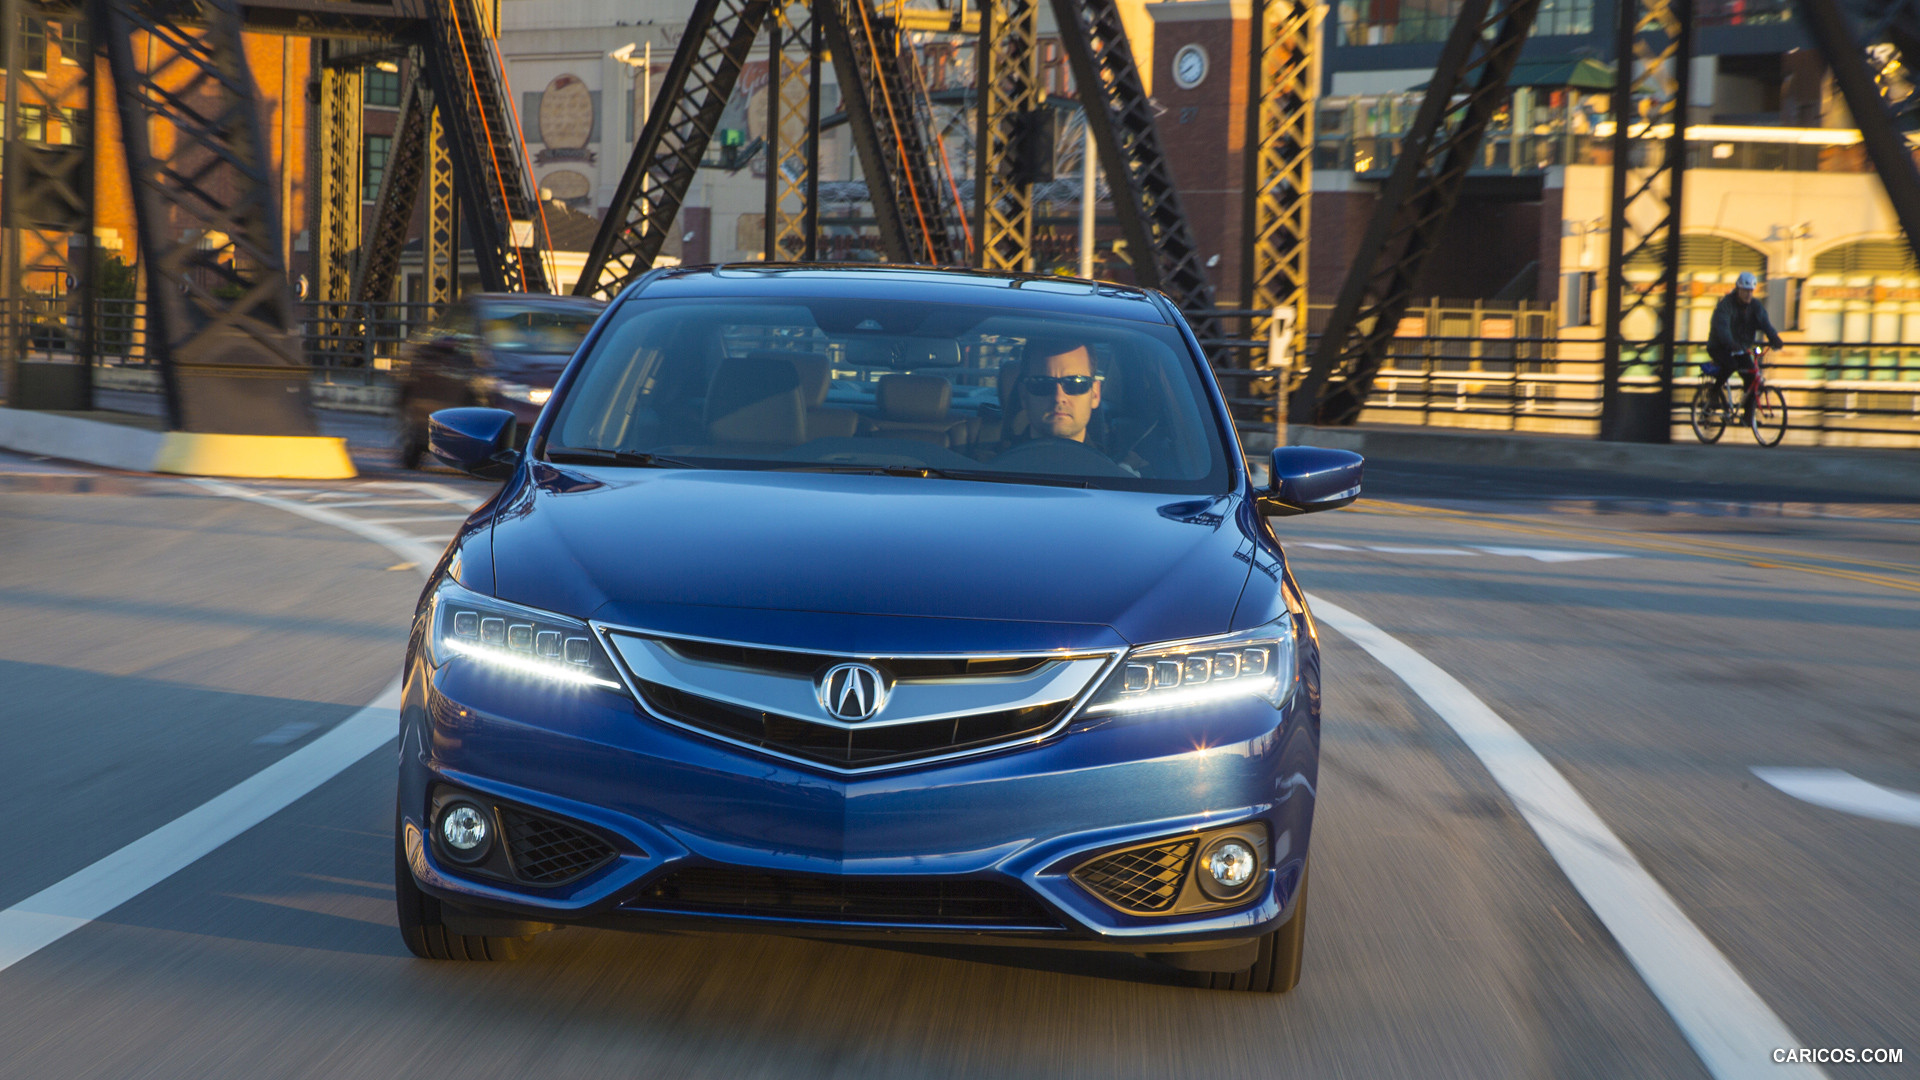Fog Lamp & Scope: (1064, 814, 1282, 934)
Front: (393, 475, 1325, 938)
Front Bumper: (393, 719, 1320, 938)
Grill: (585, 611, 1127, 785)
Headlight: (1059, 603, 1305, 738)
